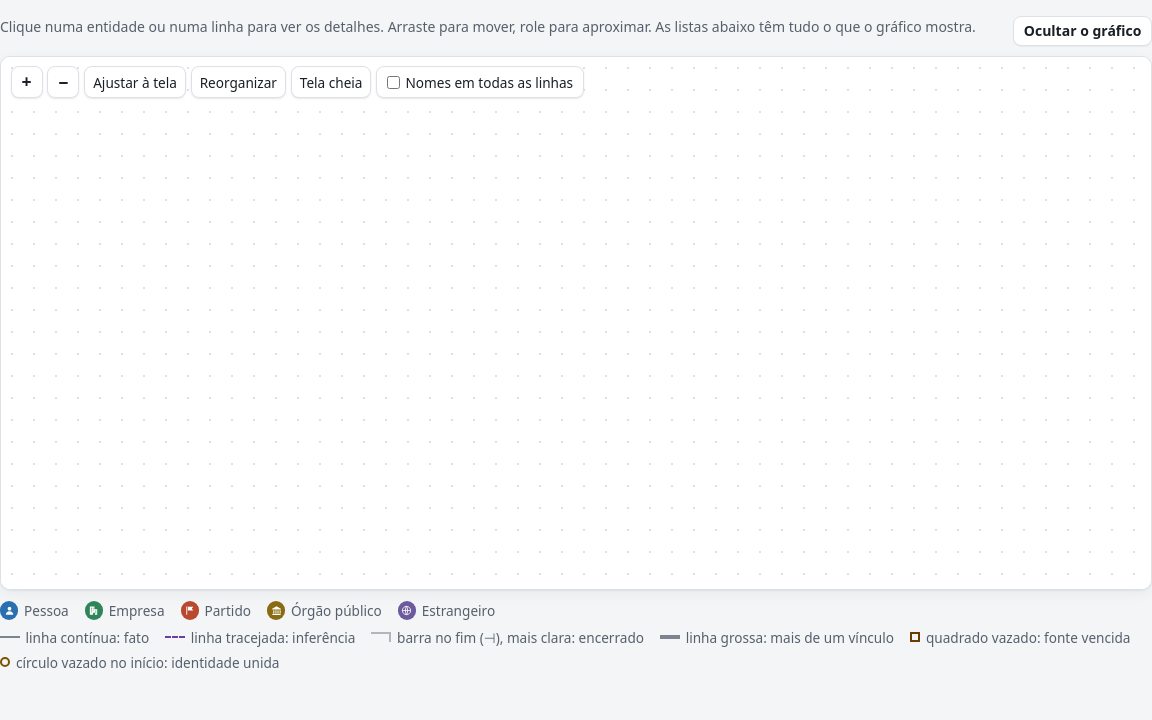
Scenario: GraphPanel › barra de ferramentas › Tela cheia alterna a classe do painel, o aria-pressed e o tamanho do canvas; Esc sai
Click the button "Tela cheia" at (331, 82), box [291,66,372,98]
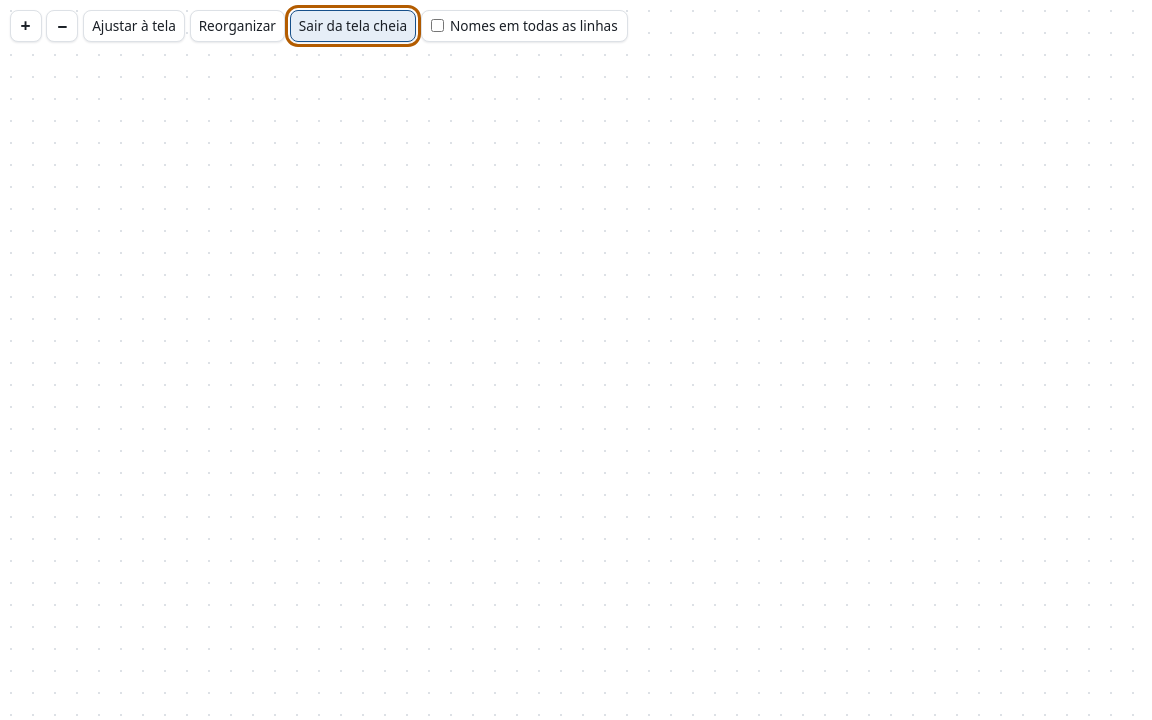
Check: the element with class "graph-panel--full" is shown, box [0,16,1151,128]
Press Escape in the element named "Mapa de vínculos"
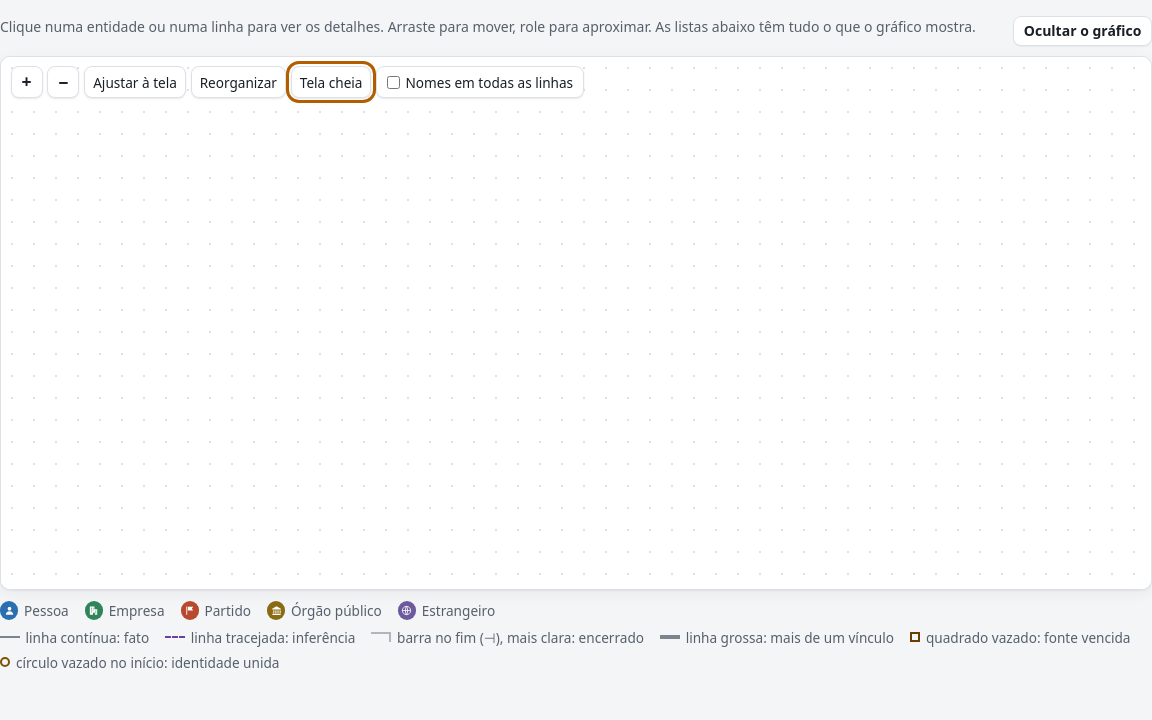
Check: the button "Tela cheia" is not pressed, box [291,66,372,98]
